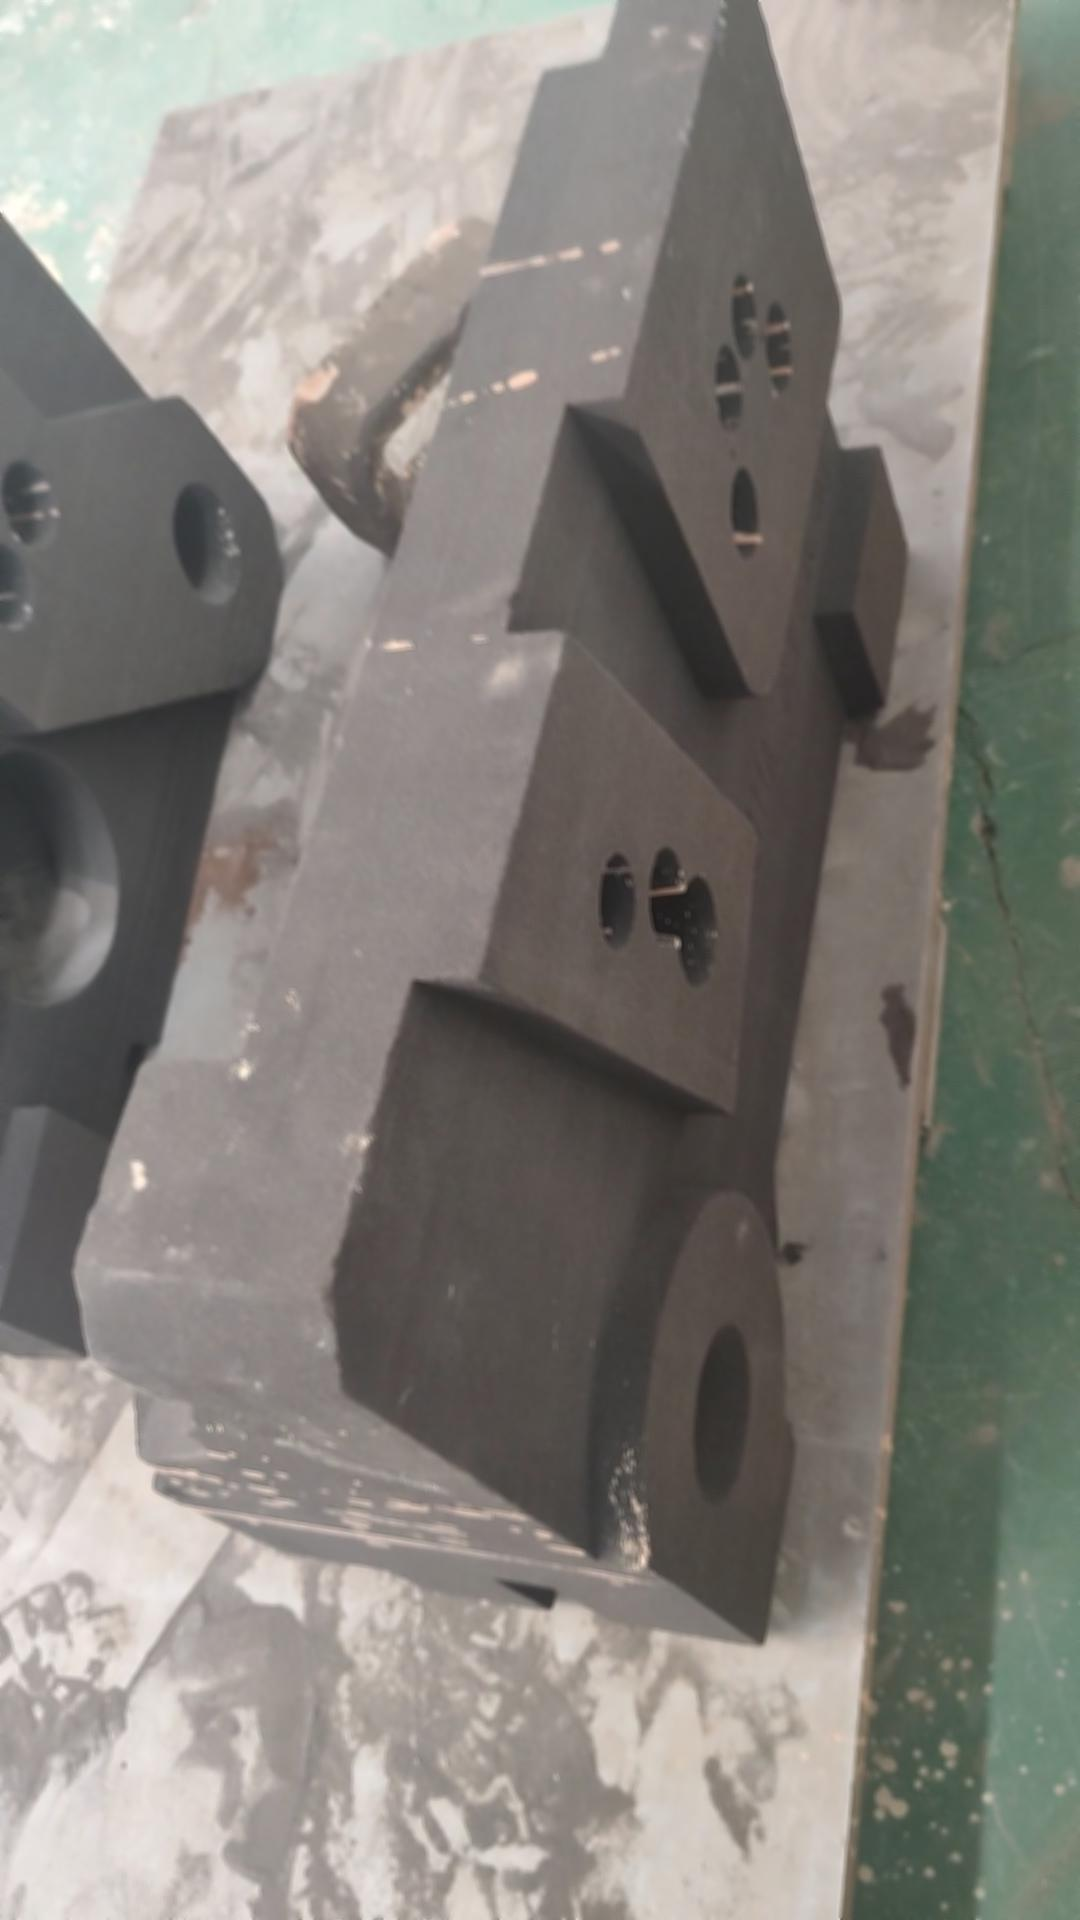pouring hole: (690, 1323, 752, 1507), (175, 480, 245, 604)
